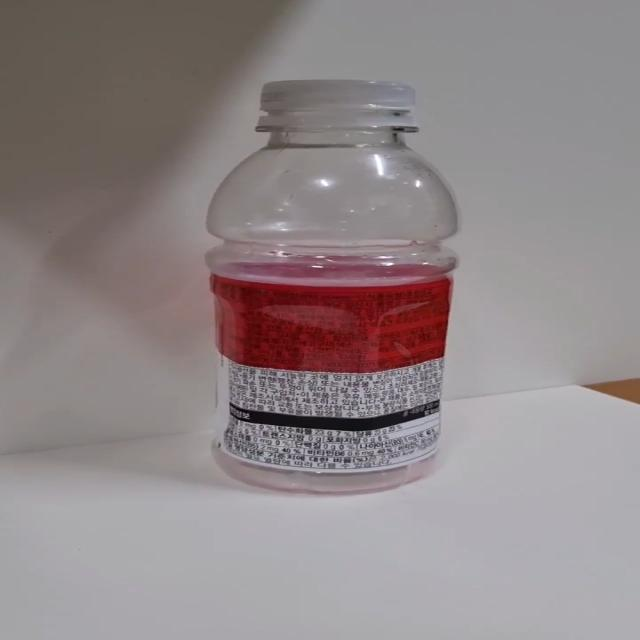Plastic: (202, 80, 460, 496)
